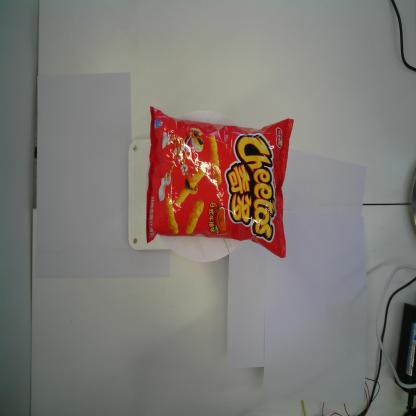Puffed Food: (143, 105, 294, 261)
